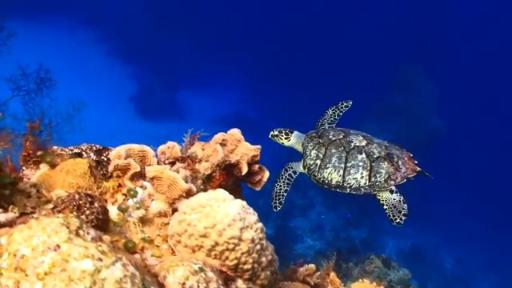Fish: (270, 101, 429, 224)
